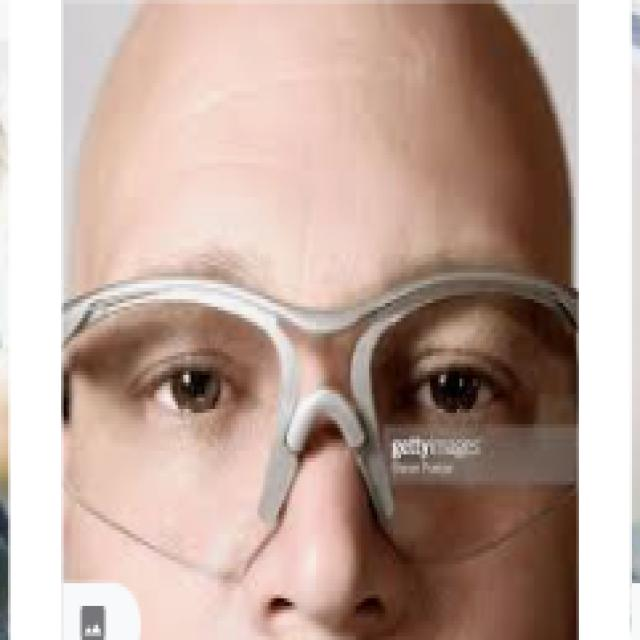glasses: (64, 249, 593, 583)
